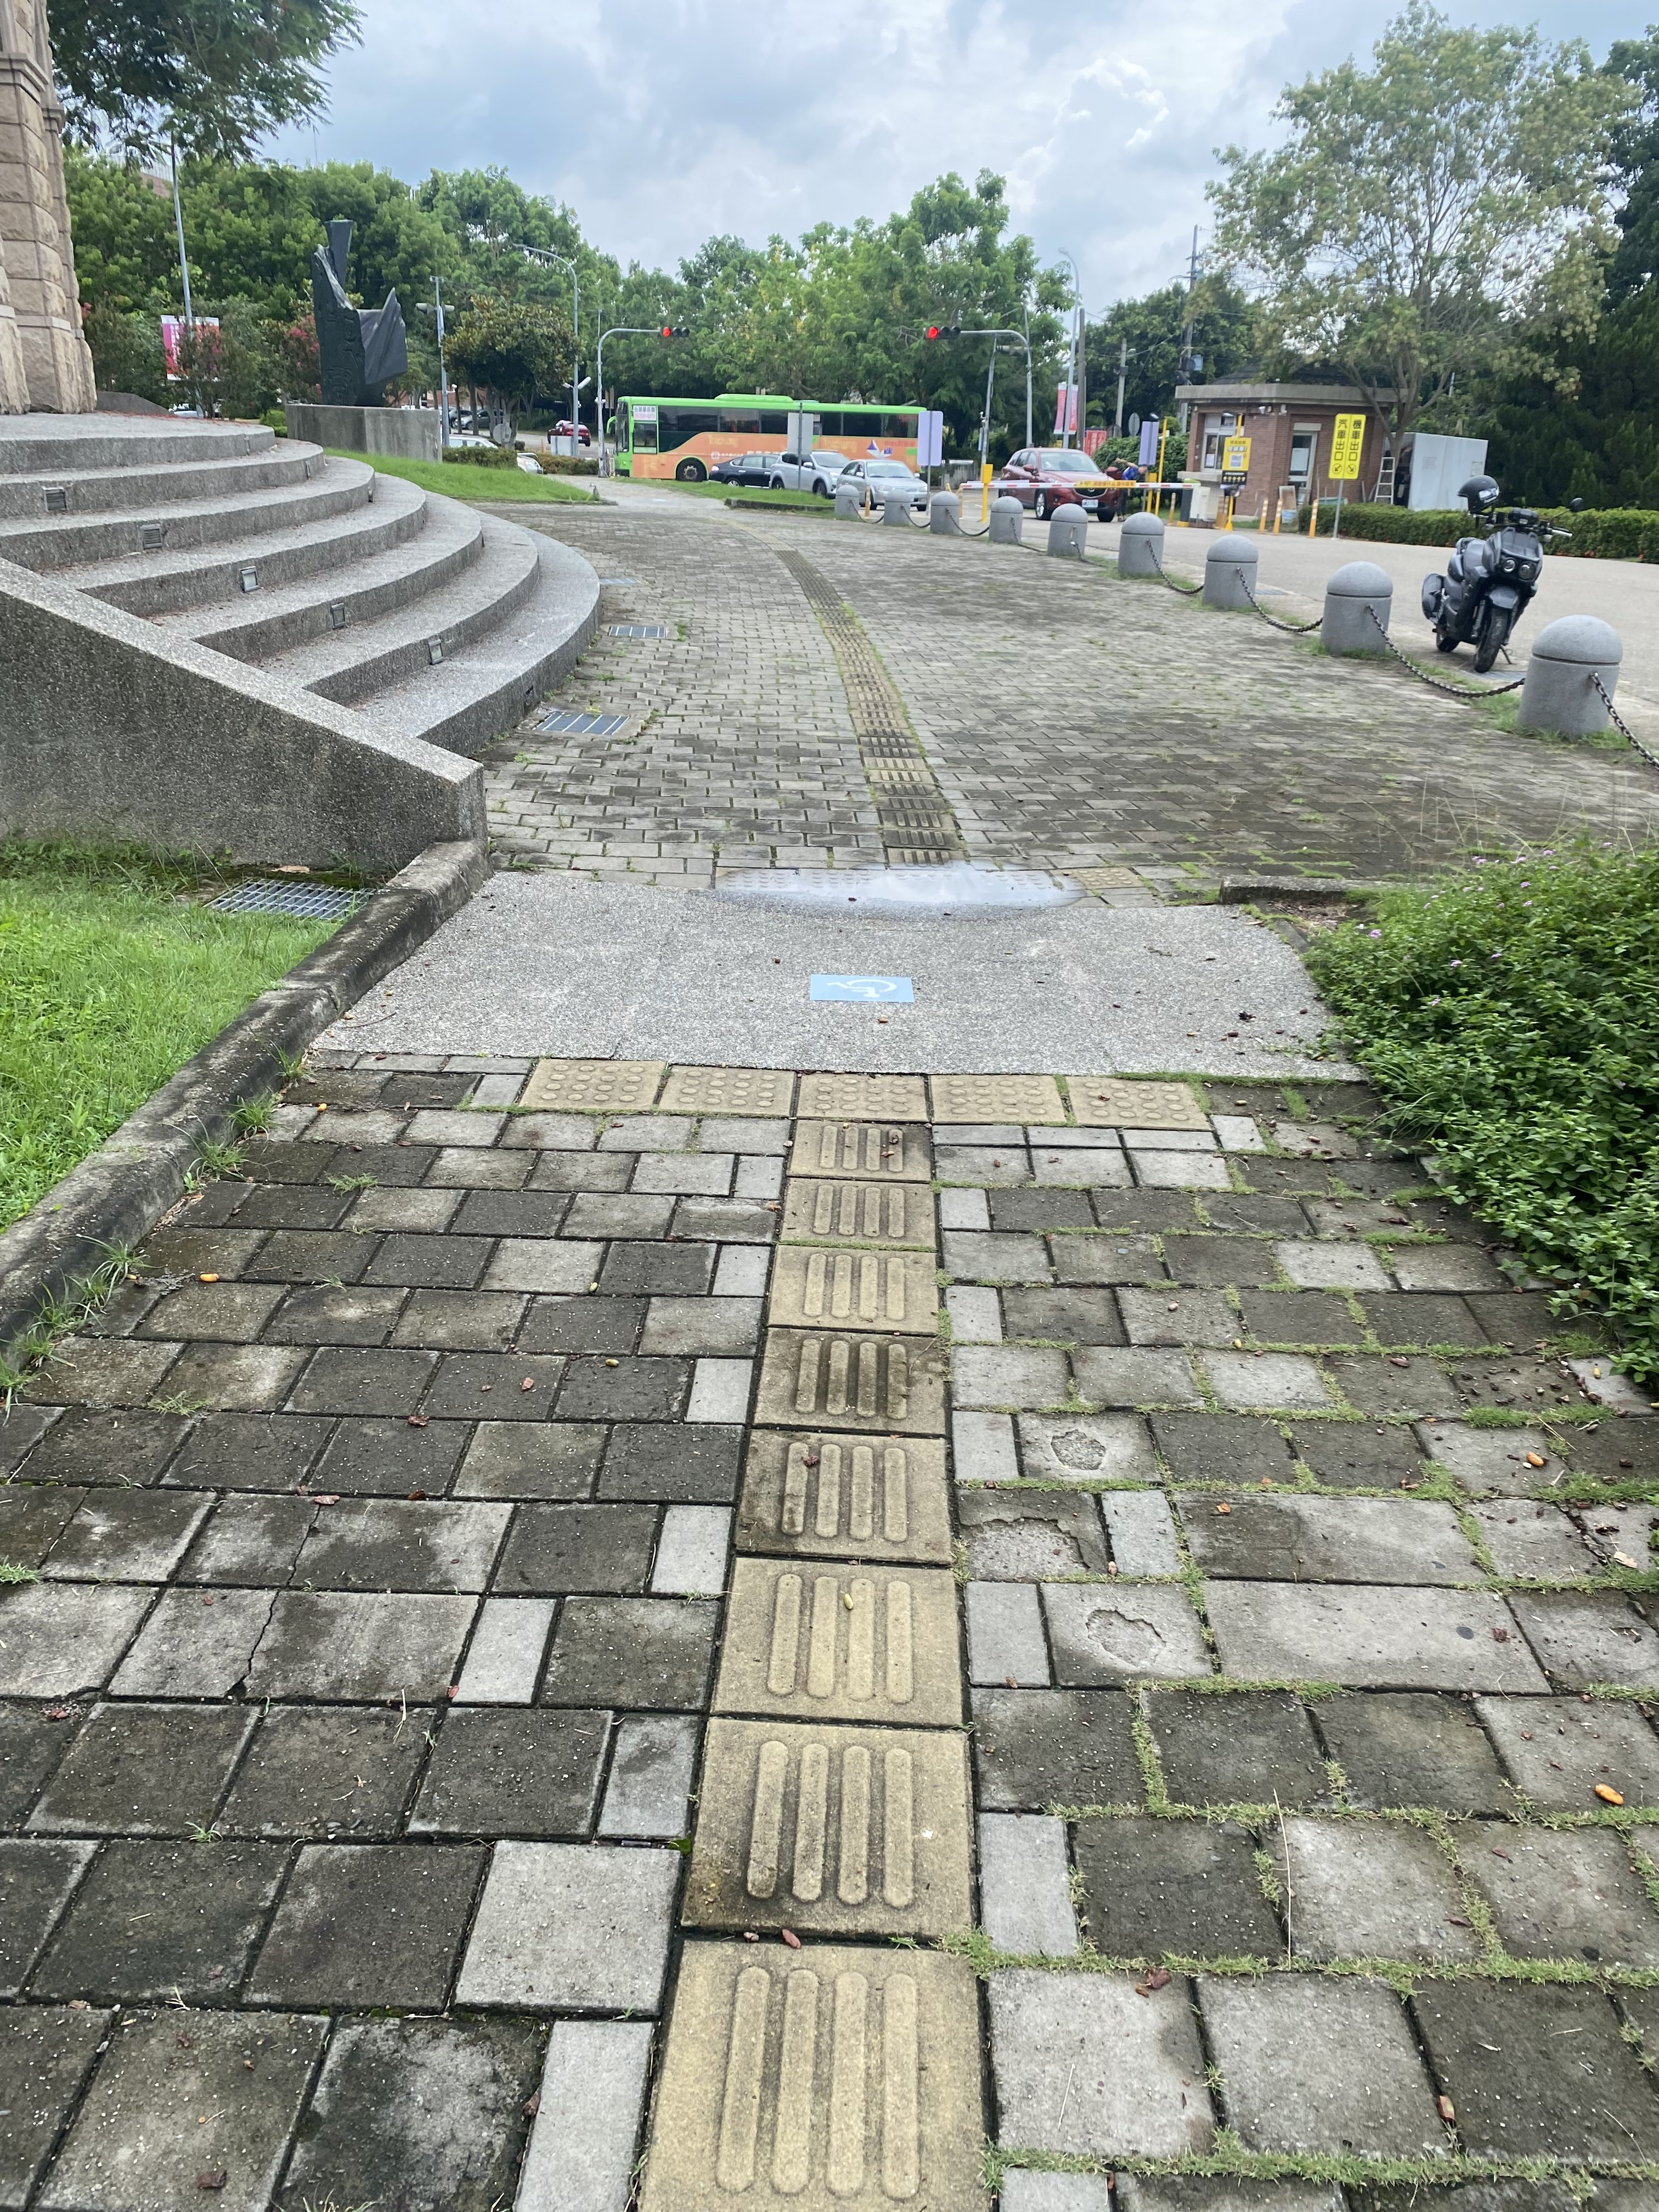0: (5, 946, 1659, 2212)
sidewalk: (460, 448, 1654, 1212)
